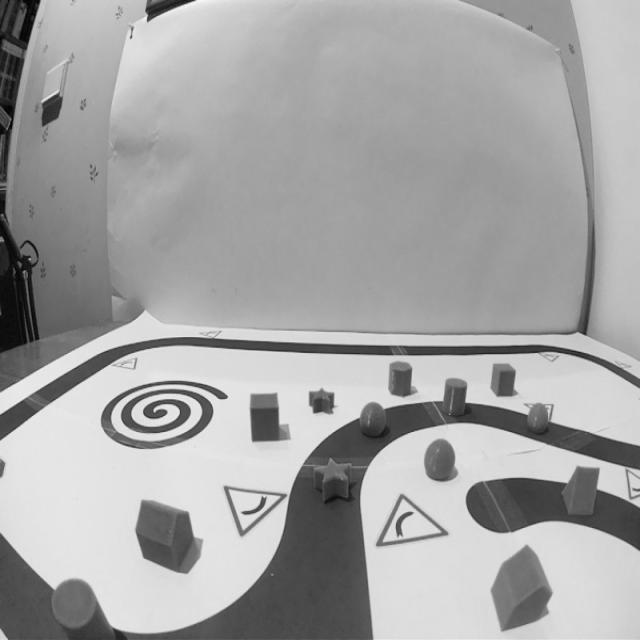ball: (421, 434, 459, 485), (356, 396, 389, 442), (523, 396, 553, 442)
cube: (246, 388, 284, 448), (488, 359, 518, 400)
cylinder: (47, 574, 120, 640), (440, 374, 470, 420)
hexagon: (386, 356, 414, 400)
home: (484, 538, 554, 632), (132, 492, 198, 575)
laneRight: (282, 446, 386, 640)
nest: (98, 376, 232, 456)
rightTurn: (357, 476, 450, 557)
star: (306, 454, 358, 506), (303, 384, 340, 418)
triangle: (560, 460, 603, 526)
